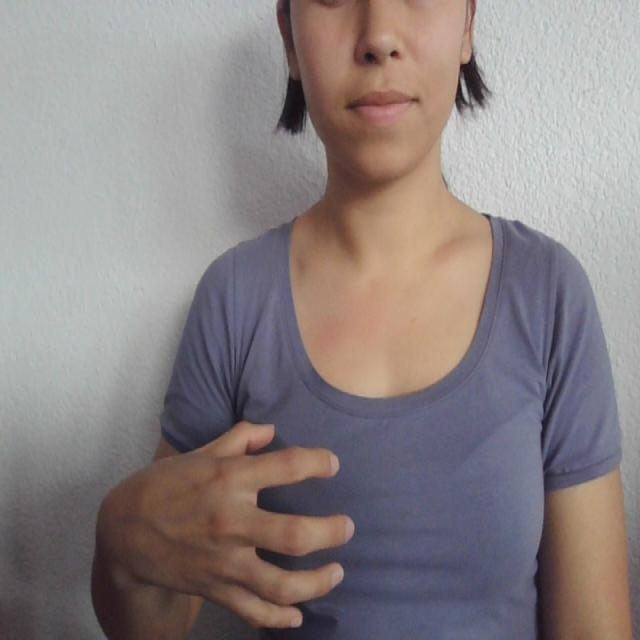Anne: (95, 396, 567, 640)
